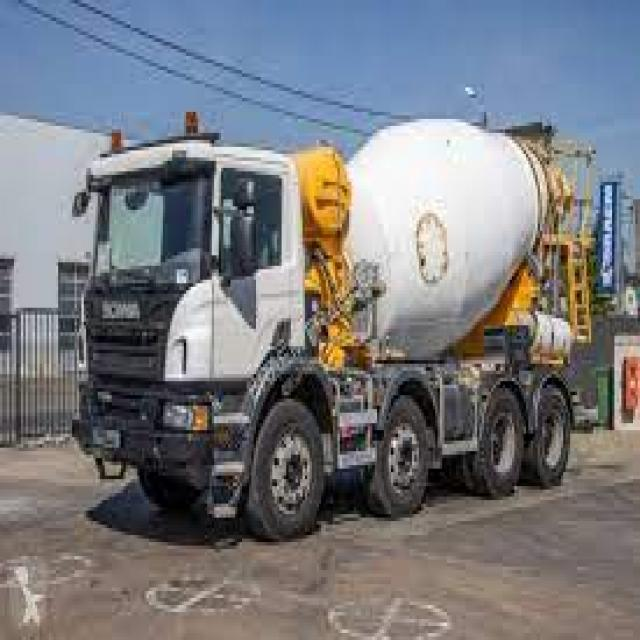Mixer Truck: (68, 111, 595, 544)
